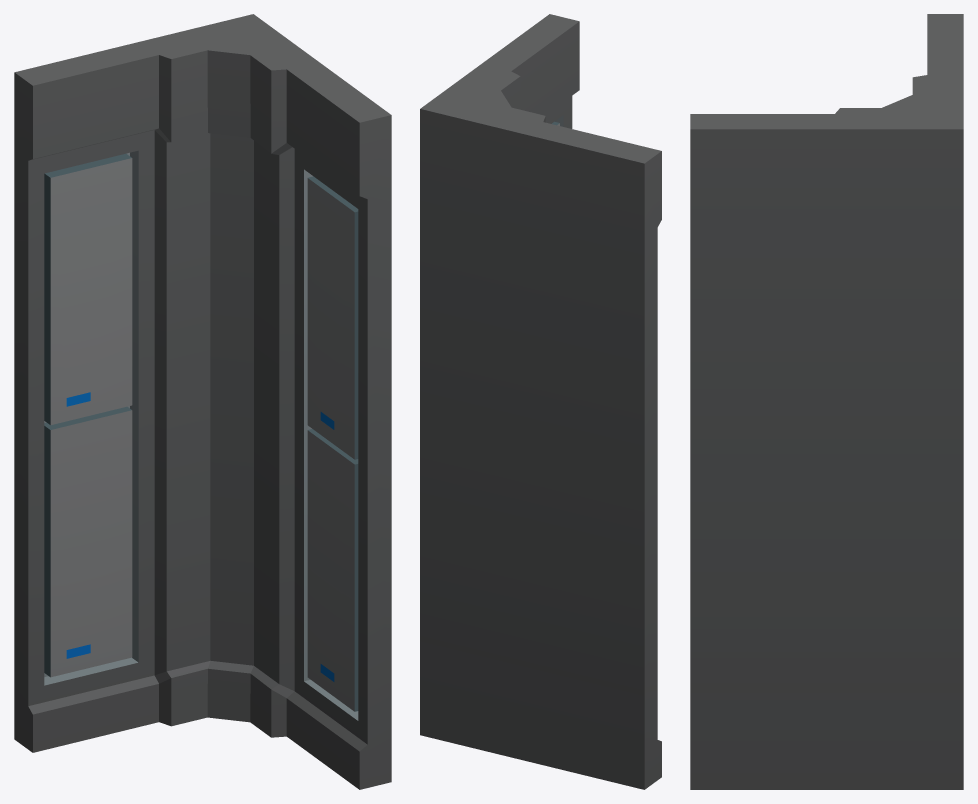
Rendered from Wall_type_B_022.fbx.
The picture shows the model from 3 angles, left to right: view 1: azimuth 30°, elevation 25°; view 2: azimuth 150°, elevation 25°; view 3: azimuth 270°, elevation 25°; orthographic projection. The views are drawn at different scales.
Visible parts, largest first — view 1: Wall_type_B_022; view 2: Wall_type_B_022; view 3: Wall_type_B_022.
Part boxes in pixels (x1,y1,x2,y2): Wall_type_B_022: (14,14,391,789); Wall_type_B_022: (420,14,661,789); Wall_type_B_022: (690,14,963,789).
Size of the model in its own units: 150 by 150 by 400.
